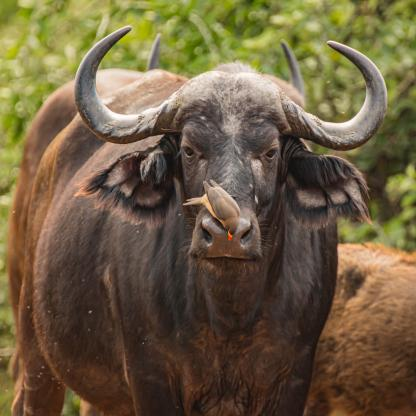buffalo: (68, 13, 380, 291)
